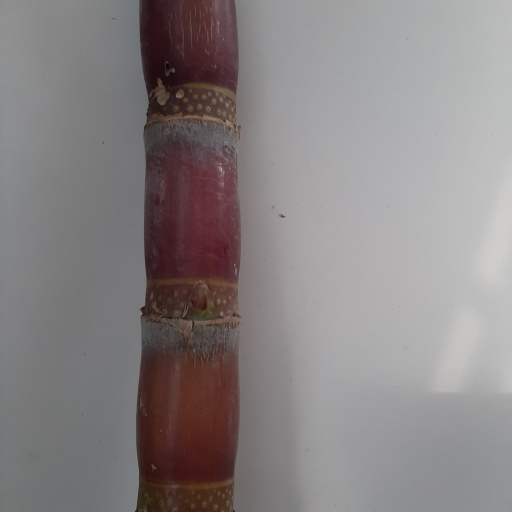Bud: (188, 281, 211, 313)
